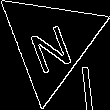N_N: (24, 11, 77, 73)
